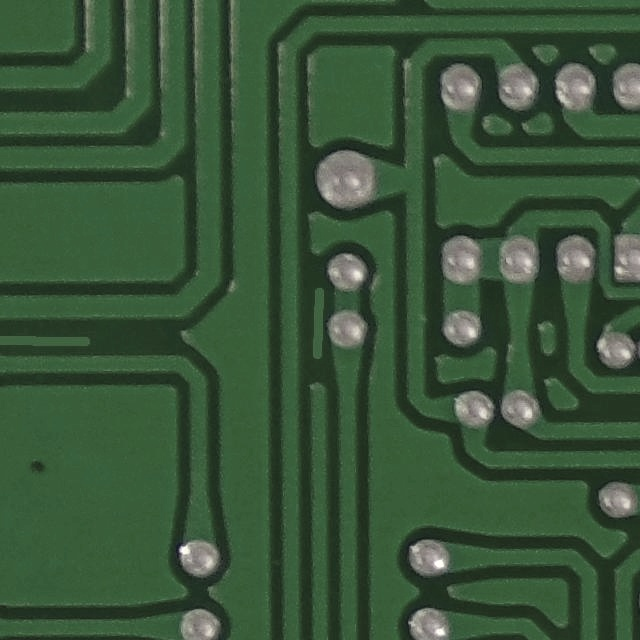spurious_copper: (300, 275, 341, 366)
